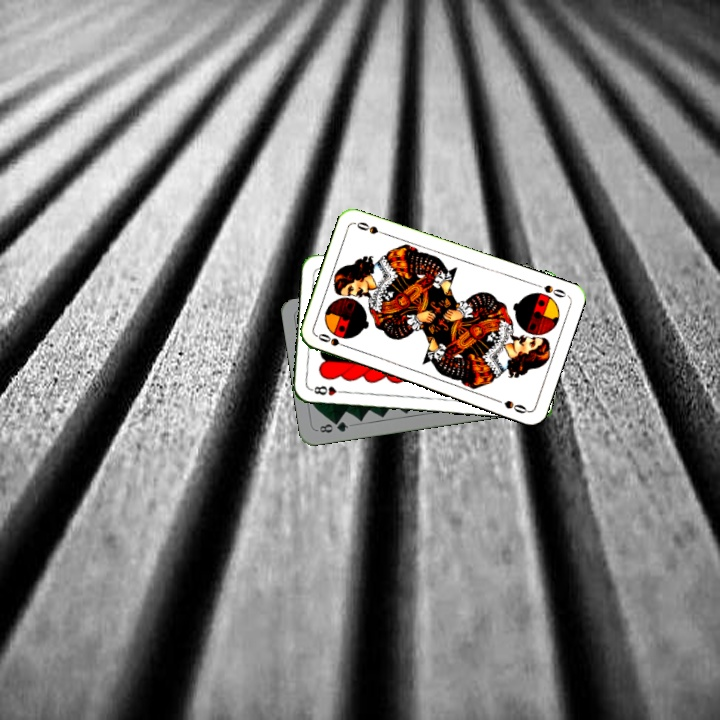G8: (315, 417, 351, 436)
H8: (307, 382, 348, 398)
SO: (314, 329, 353, 351), (530, 279, 570, 300)
